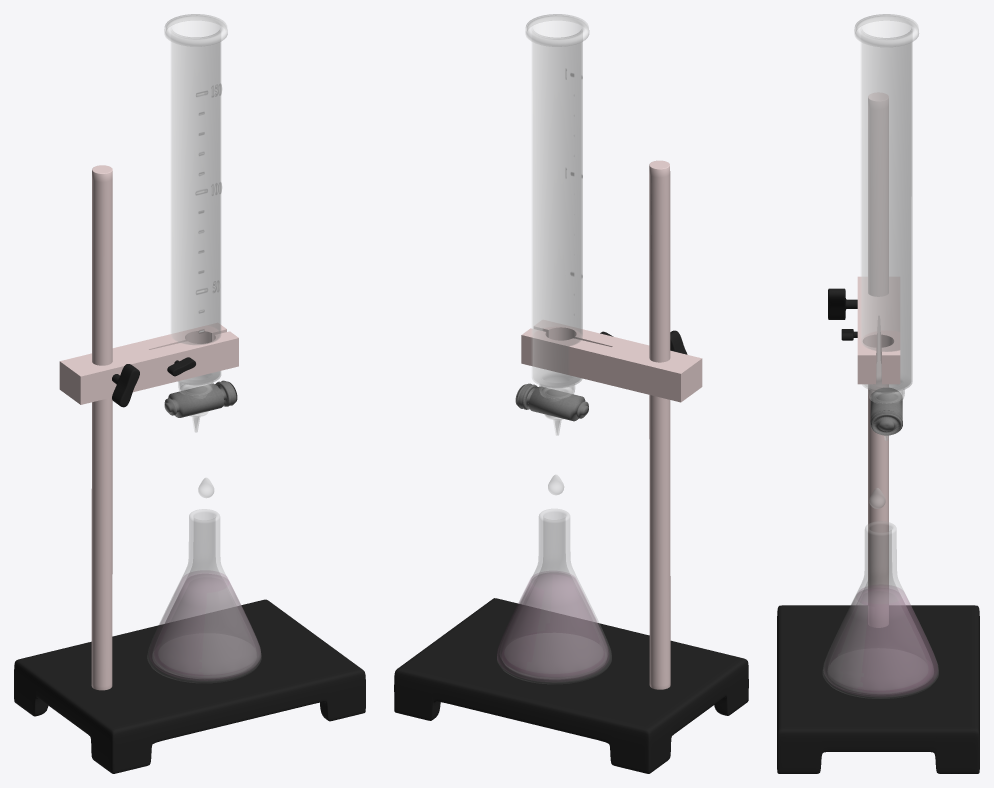
File: titration_final.glb
3 views of the same model, side by side, from view 1: azimuth 30°, elevation 25°; view 2: azimuth 150°, elevation 25°; view 3: azimuth 270°, elevation 25° (orthographic). The views are drawn at different scales.
Parts seen in each view (by area): view 1: polySurface2_Black_0, Circle_0.001, Burette_Flask_Glass, polySurface1_Chrom_0, Liquid_Clear, pCube4_Chrom_0, Liquid_Pink, Cylinder_1, polySurface5_Black_0, 0-Photoroom-removebg-preview_2; view 2: polySurface2_Black_0, Circle_0.001, Burette_Flask_Glass, polySurface1_Chrom_0, Liquid_Pink, pCube4_Chrom_0, Liquid_Clear, Cylinder_1; view 3: polySurface2_Black_0, Circle_0.001, Burette_Flask_Glass, polySurface1_Chrom_0, Liquid_Clear, Liquid_Pink, pCube4_Chrom_0, Cylinder_1, polySurface5_Black_0.
Part boxes in pixels (x1,y1,x2,y2): polySurface2_Black_0: (14,599,365,773); Circle_0.001: (164,14,227,432); Burette_Flask_Glass: (147,509,261,682); polySurface1_Chrom_0: (91,165,112,690); Liquid_Clear: (154,575,260,678); pCube4_Chrom_0: (59,323,238,404); Liquid_Pink: (150,573,255,680); Cylinder_1: (164,380,237,417); polySurface5_Black_0: (112,364,139,407); 0-Photoroom-removebg-preview_2: (195,83,221,333); polySurface2_Black_0: (394,598,748,773); Circle_0.001: (525,14,588,435); Burette_Flask_Glass: (497,509,611,683); polySurface1_Chrom_0: (649,160,670,689); Liquid_Pink: (497,573,608,681); pCube4_Chrom_0: (521,320,702,402); Liquid_Clear: (500,575,607,677); Cylinder_1: (515,383,588,421); polySurface2_Black_0: (777,605,979,773); Circle_0.001: (854,14,918,440); Burette_Flask_Glass: (823,521,938,698); polySurface1_Chrom_0: (868,92,888,627); Liquid_Clear: (823,588,932,694); Liquid_Pink: (830,586,937,696); pCube4_Chrom_0: (857,276,900,384); Cylinder_1: (870,388,902,435); polySurface5_Black_0: (828,288,857,319).
Size of the model in its own units: 2.79 by 7.08 by 1.89.
Materials: 9 (2 with a texture image).
